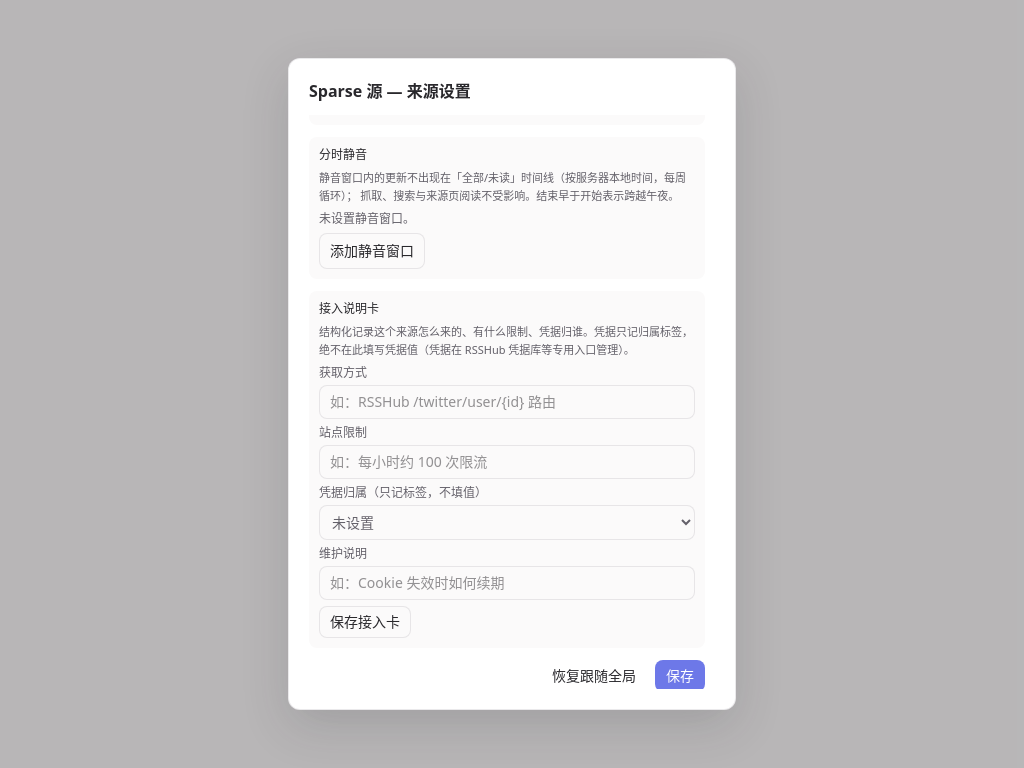
N020/N019 来源设置对话框 › N019: 接入说明卡保存 → PUT 只含结构化字段；凭据归属是标签
(page scrolled)
Check: the element with test id "access-card-editor" is shown, box [309,291,705,648]
Type "RSSHub 路由" into the field labelled "获取方式" at (507, 402), box [319,385,695,419]
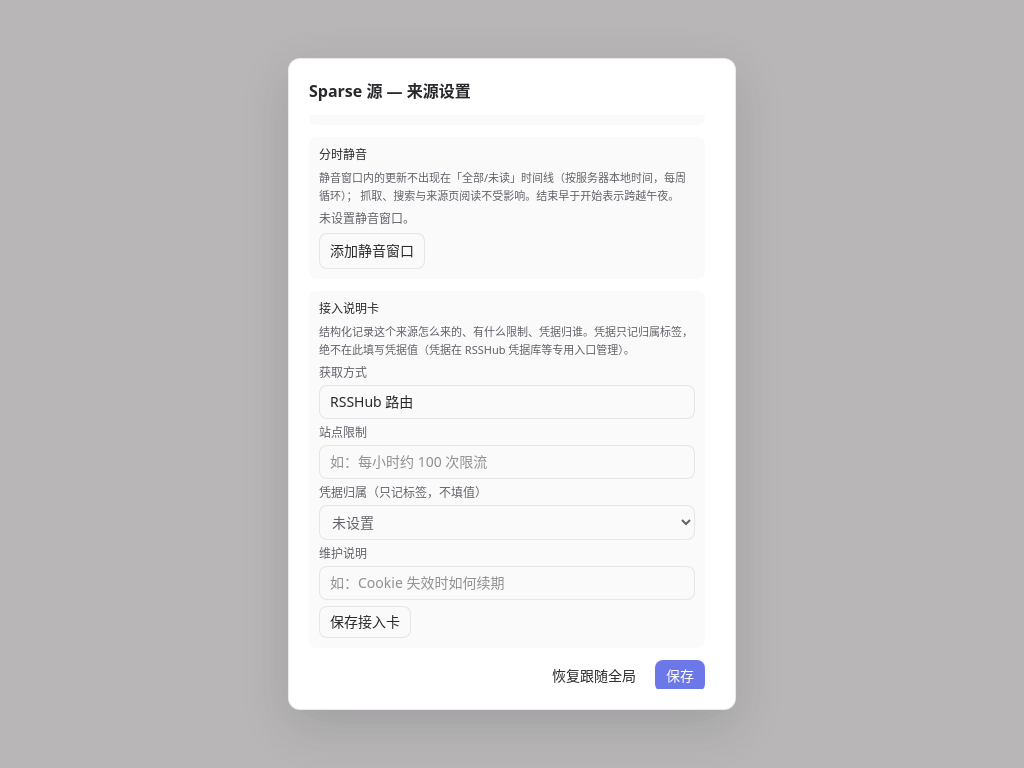
Select "共享" in the dropdown labelled "凭据归属" at (507, 522), box [319,505,695,540]
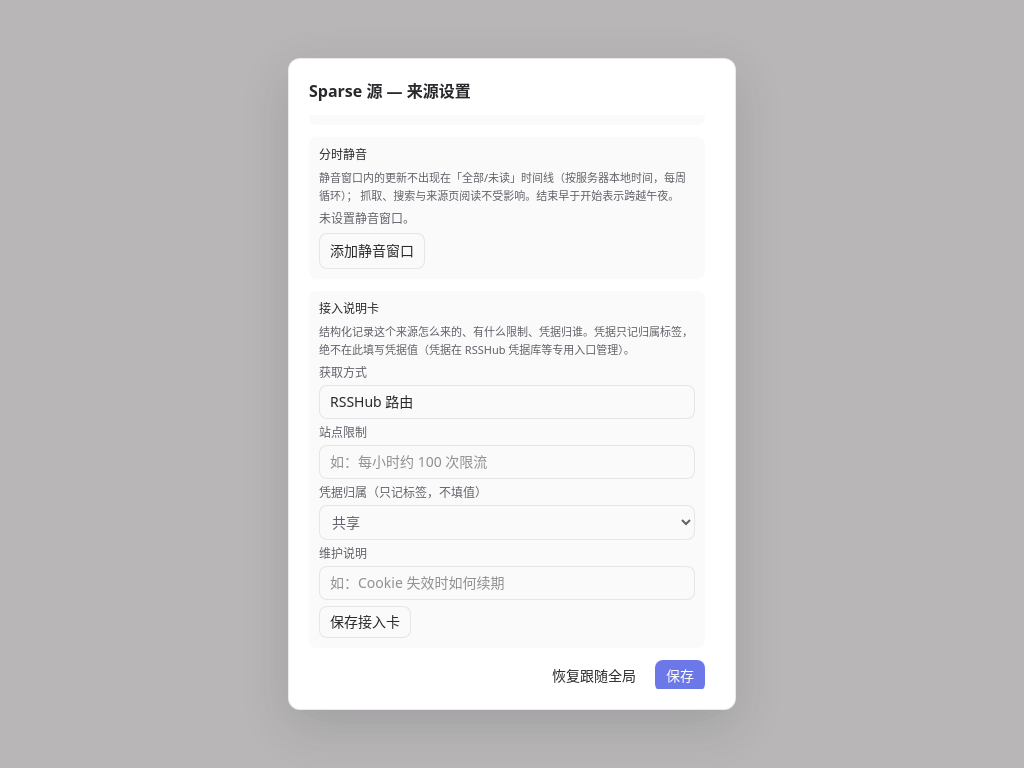
Click the button "保存接入卡" at (365, 622), box [319,606,411,638]
(page scrolled)
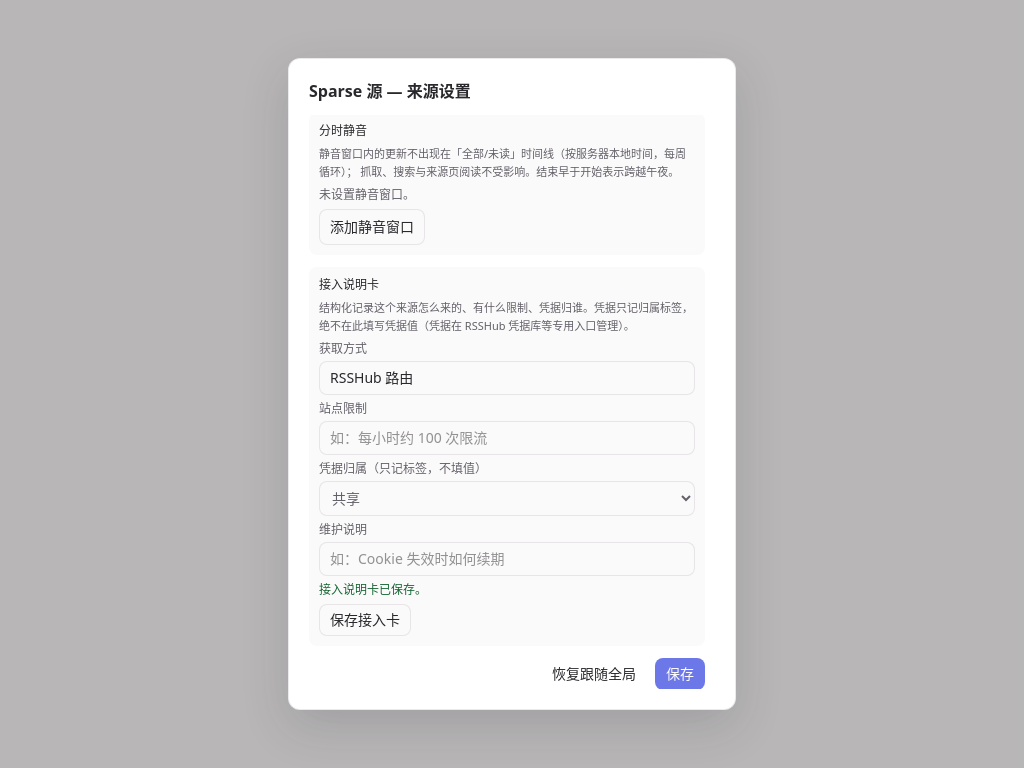
Check: the message "接入说明卡已保存。" is shown, box [319,581,427,598]
